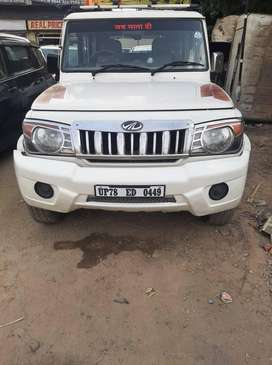UP78ED0449: (96, 184, 165, 198)
